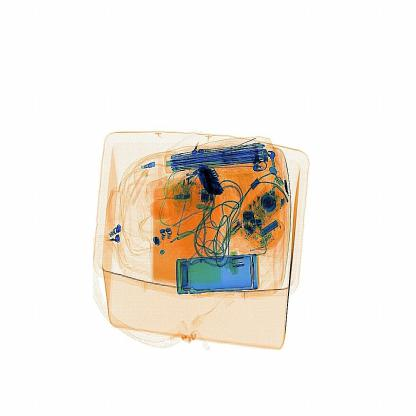scissors: (192, 155, 231, 207)
